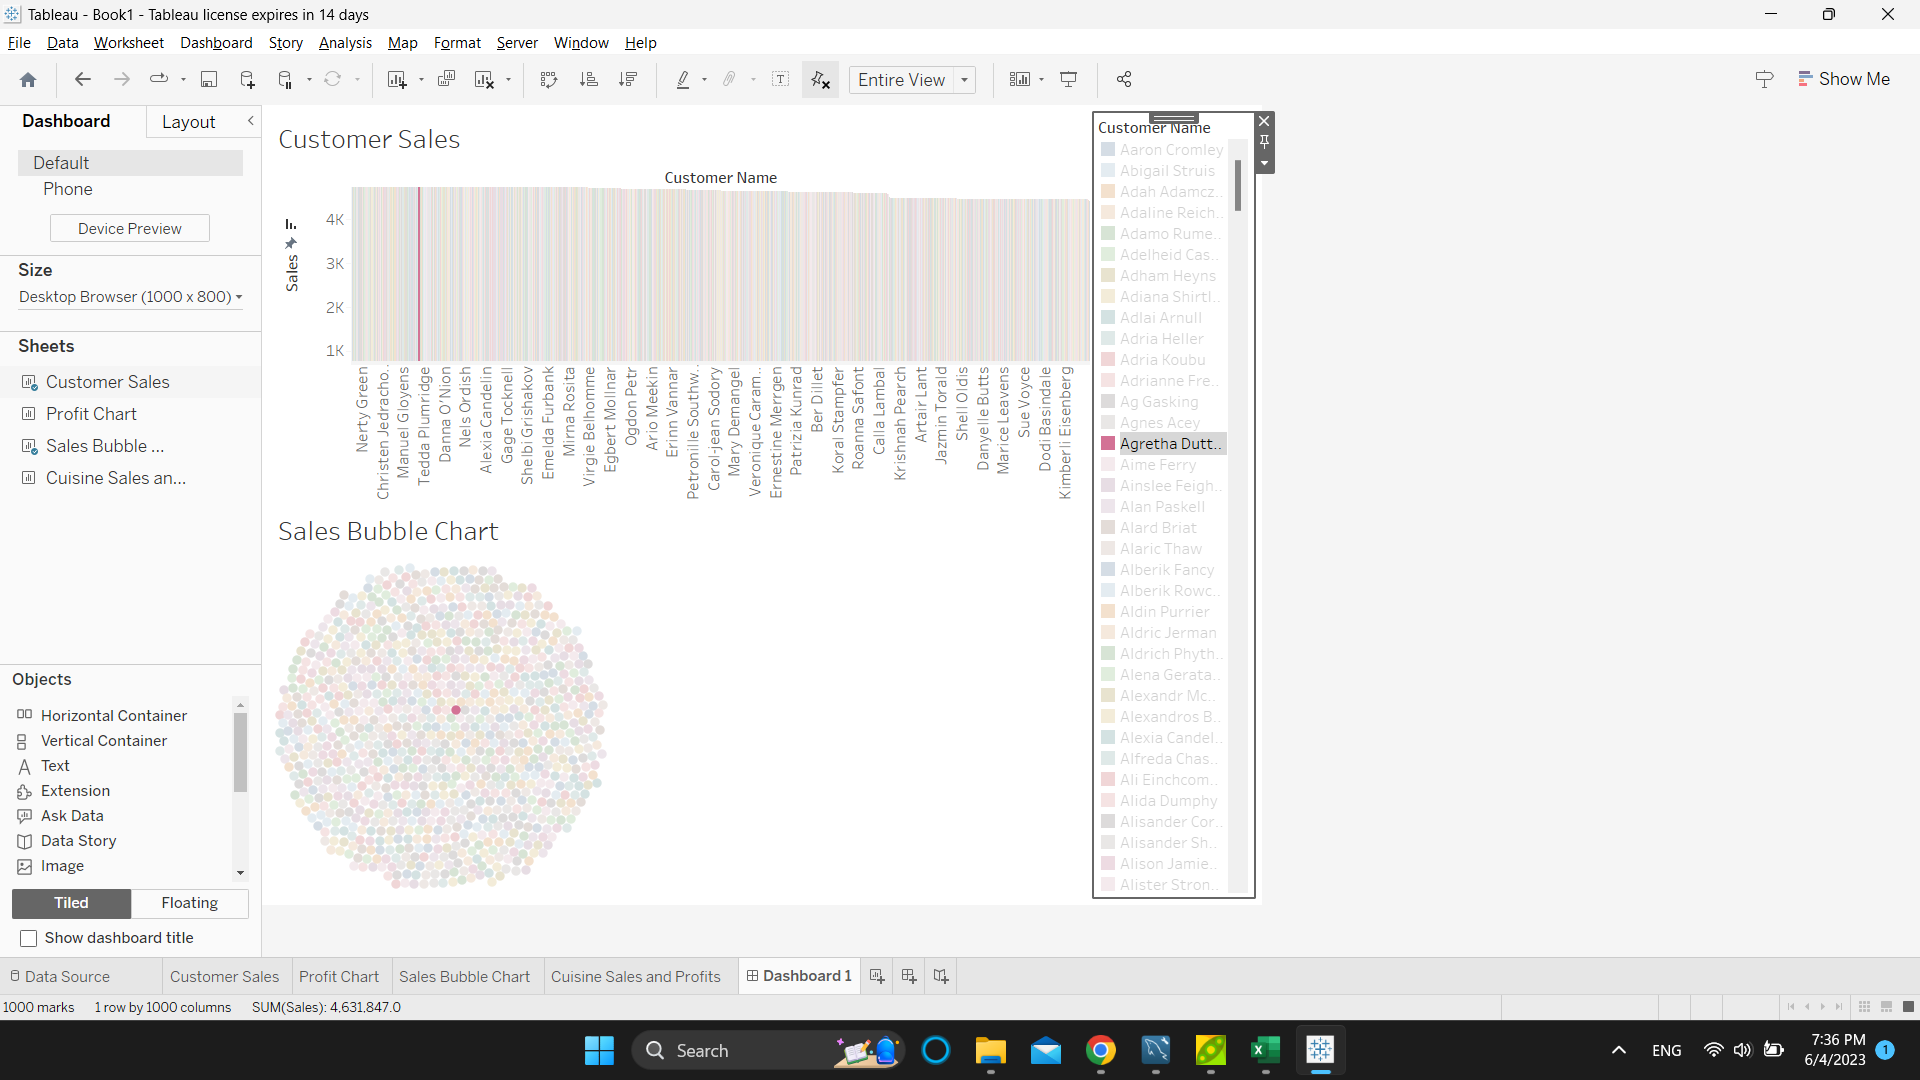

The dashboard page shown, as its layout file describes it:
{"tool":"tableau","page":{"name":"Dashboard 1","canvas":[1000,800],"ordinal":0},"visuals":[{"type":"worksheet","title":"Customer Sales","mark":"Automatic","rows":["Sales"],"cols":["Customer Name"],"box":[8,8,824,392]},{"type":"legend","title":"Customer Sales","param":"[federated.00j9e3m1ahmmpg1gbulp90ygfc7q].[none:Customer Name:nk]","box":[832,8,160,784]},{"type":"worksheet","title":"Sales Bubble Chart","mark":"Circle","box":[8,400,824,392]}]}

Visuals, with their boxes on the page's 1000x800 design canvas (x1, y1, x2, y2). These are canvas units, not pixel positions in the 1920x1080 screenshot, which may show the page scaled, cropped or inside an application window:
"Customer Sales" worksheet: rect(8, 8, 832, 400)
"Customer Sales" legend: rect(832, 8, 992, 792)
"Sales Bubble Chart" worksheet (Circle marks): rect(8, 400, 832, 792)
